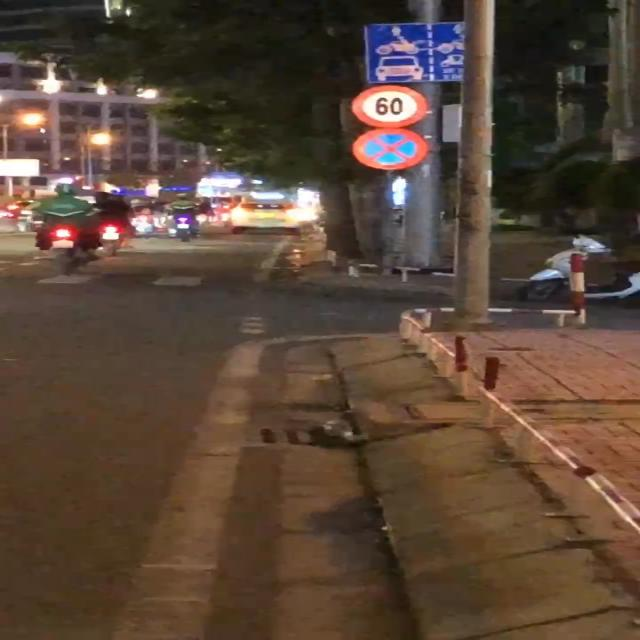Bien bao cam dung xe va do xe: (349, 125, 437, 172)
Bien bao toc do toi da cho phep: (348, 82, 432, 128)
